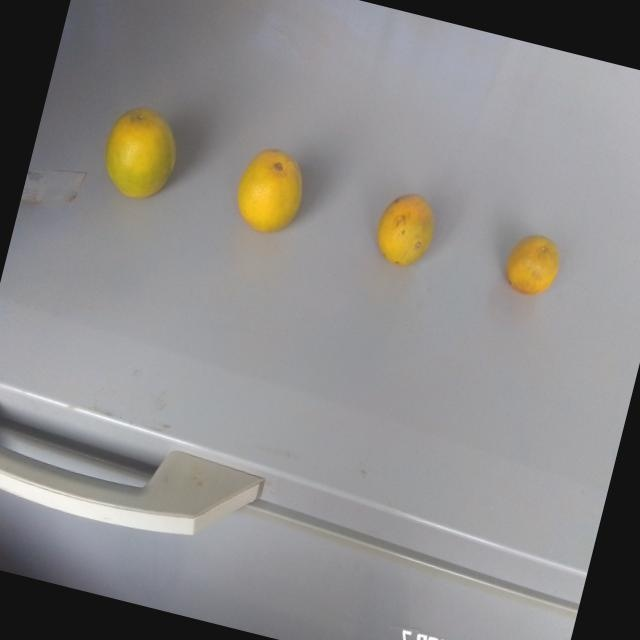agrume: (224, 134, 321, 251), (93, 97, 186, 207), (370, 179, 445, 274), (494, 222, 566, 303)
